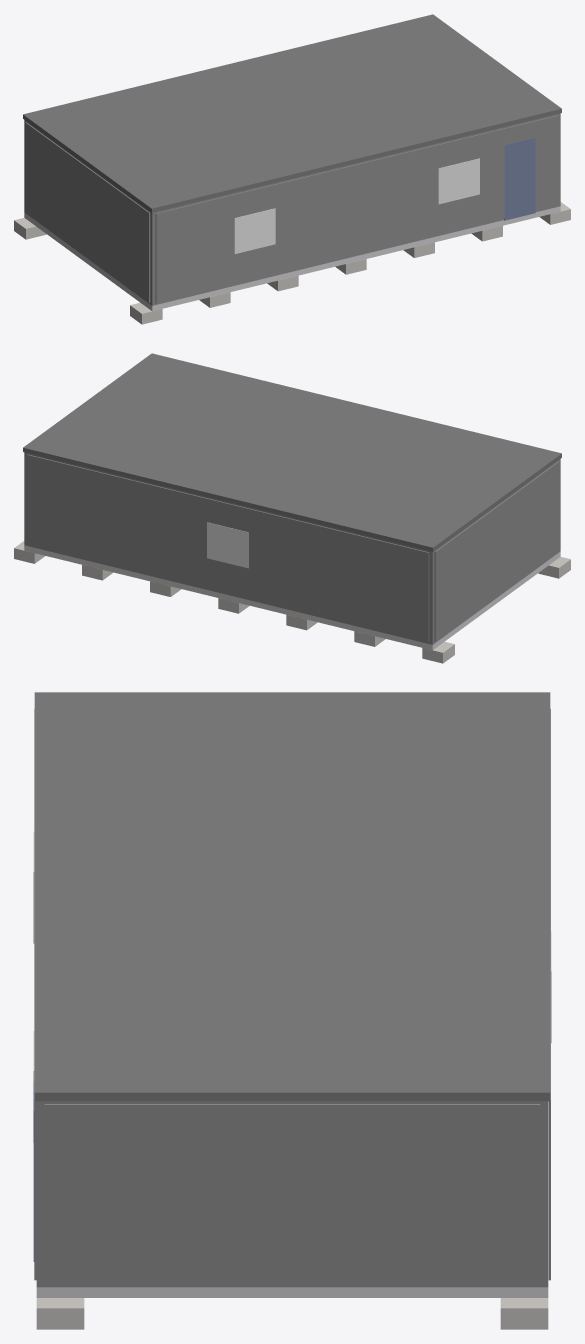
File: Studio-40-Base-AntiqueWallGrey-LOD1.glb
3 renders of one model, top to bottom at view 1: azimuth 30°, elevation 25°; view 2: azimuth 150°, elevation 25°; view 3: azimuth 270°, elevation 25°, orthographic. The views are drawn at different scales.
Visible parts, largest first — view 1: RoofMain, ExteriorPanelsStandard, BaseFrame, WindowsStandard, ExteriorShell, FoundationBlocks, EntryDoor; view 2: RoofMain, ExteriorPanelsStandard, BaseFrame, ExteriorShell, FoundationBlocks, WindowsStandard; view 3: RoofMain, ExteriorPanelsStandard, ExteriorShell, BaseFrame, FoundationBlocks.
Part boxes in pixels (bbox=[...]): RoofMain: bbox=[23, 14, 561, 212]; ExteriorPanelsStandard: bbox=[25, 115, 557, 303]; BaseFrame: bbox=[24, 206, 560, 311]; WindowsStandard: bbox=[234, 158, 479, 254]; ExteriorShell: bbox=[24, 113, 560, 305]; FoundationBlocks: bbox=[14, 202, 570, 324]; EntryDoor: bbox=[504, 137, 535, 220]; RoofMain: bbox=[23, 353, 561, 551]; ExteriorPanelsStandard: bbox=[27, 454, 559, 642]; BaseFrame: bbox=[24, 545, 560, 650]; ExteriorShell: bbox=[24, 452, 560, 644]; FoundationBlocks: bbox=[14, 541, 570, 663]; WindowsStandard: bbox=[207, 522, 248, 568]; RoofMain: bbox=[34, 692, 550, 1101]; ExteriorPanelsStandard: bbox=[34, 708, 550, 1284]; ExteriorShell: bbox=[36, 1101, 548, 1287]; BaseFrame: bbox=[36, 1287, 548, 1297]; FoundationBlocks: bbox=[36, 1298, 548, 1329].
Bounding box in the file's own units: 12.49 × 3.17 × 6.53.
